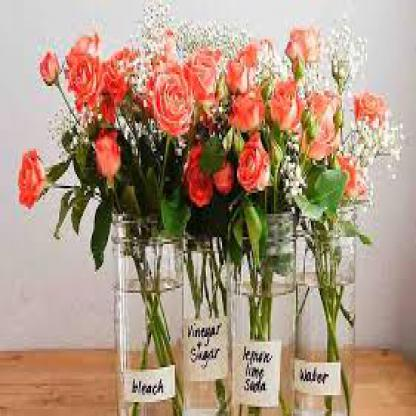Rose-Mawar: (10, 18, 398, 213)
